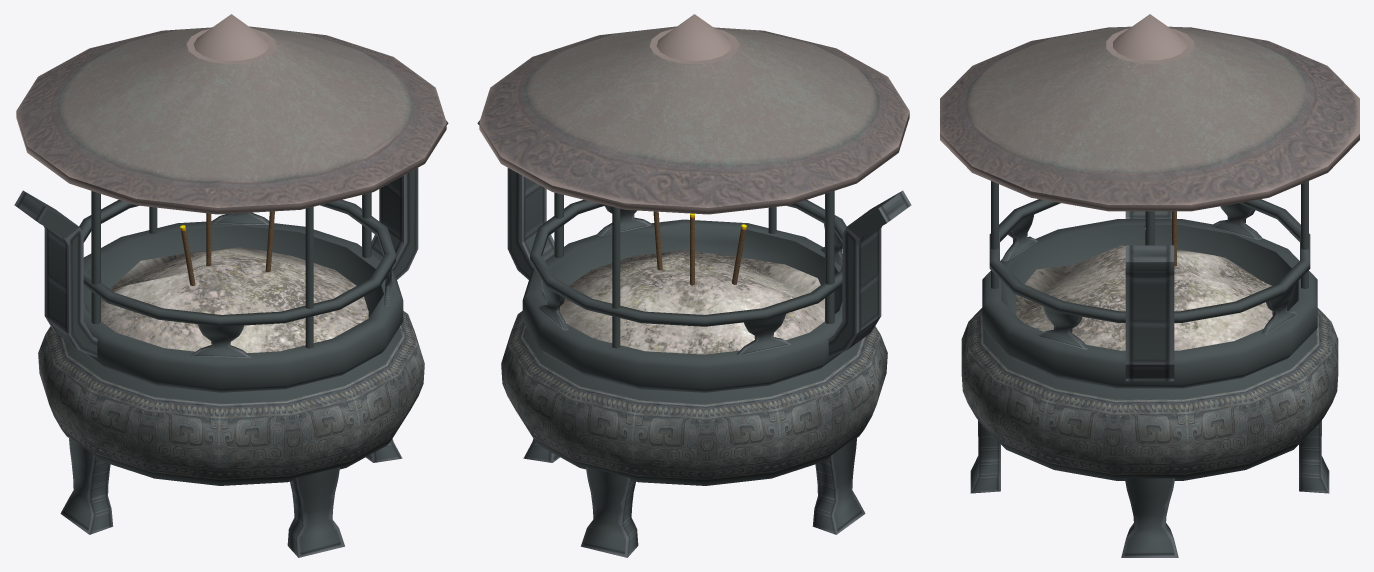
Rendered from Censer_4.FBX.
The picture shows the model from 3 angles, left to right: view 1: azimuth 30°, elevation 25°; view 2: azimuth 150°, elevation 25°; view 3: azimuth 270°, elevation 25°; orthographic projection.
Visible parts, largest first — view 1: Censer_4; view 2: Censer_4; view 3: Censer_4.
Boxes of the visible parts, x1,y1,x2,y2 form: Censer_4: (14,14,448,557); Censer_4: (477,14,911,557); Censer_4: (940,14,1359,557).
Size of the model in its own units: 56.95 by 62.73 by 50.96.
